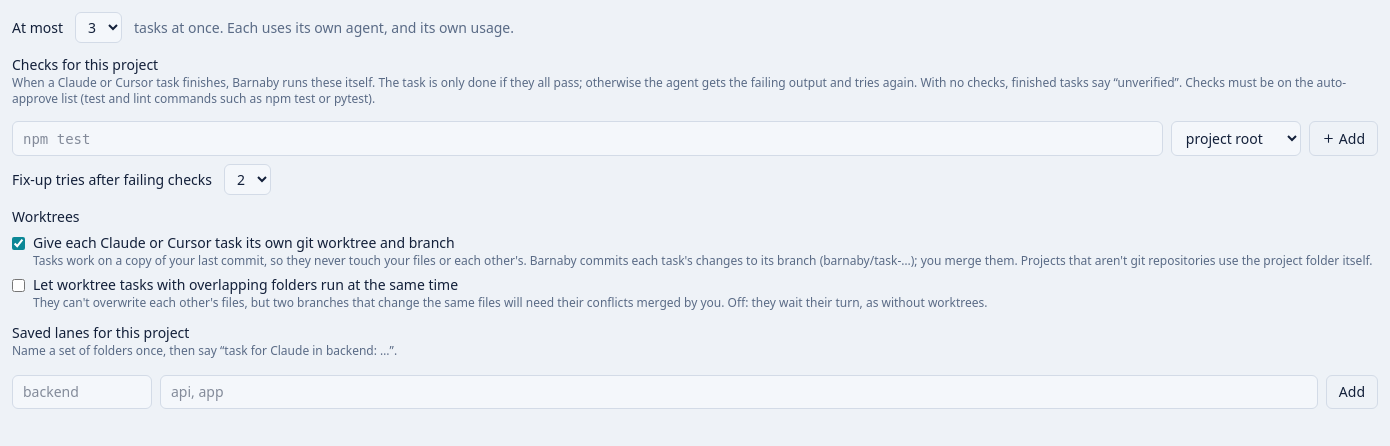
Scenario: TasksSettings › refuses paths that leave the project
Type "x" into the field named "Lane name" at (82, 392), box top-left (12, 375), bottom-right (152, 409)
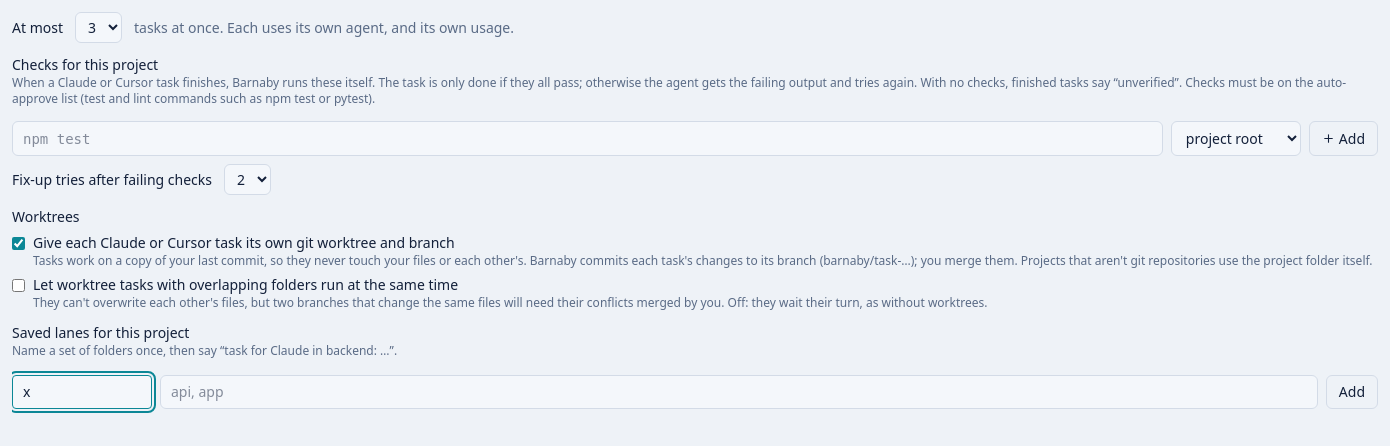
Type "../secrets" into the field named "Lane folders" at (739, 392), box top-left (160, 375), bottom-right (1318, 409)
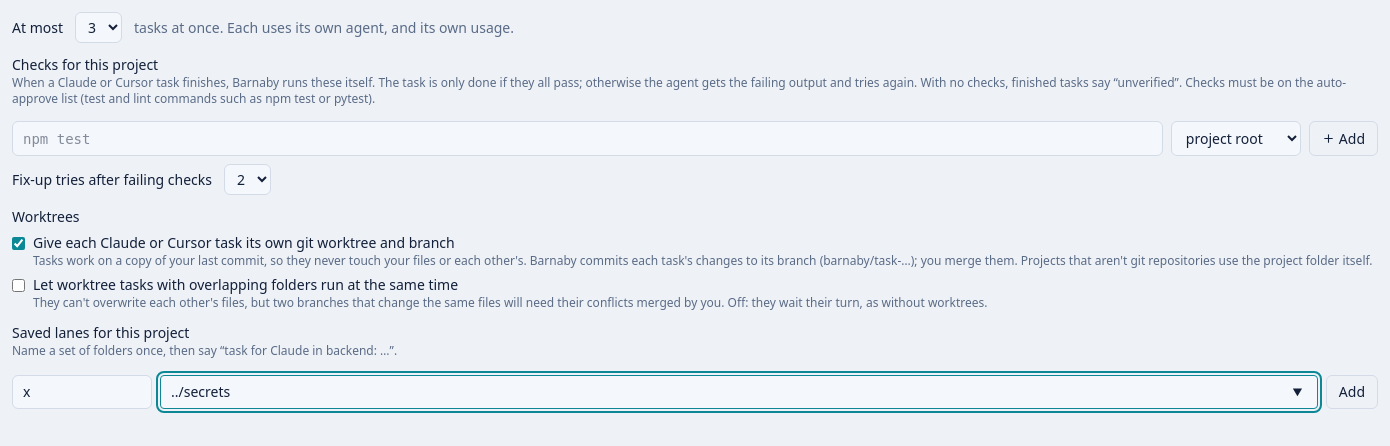
Click the 2nd button "Add" at (1352, 392), box top-left (1326, 375), bottom-right (1378, 409)
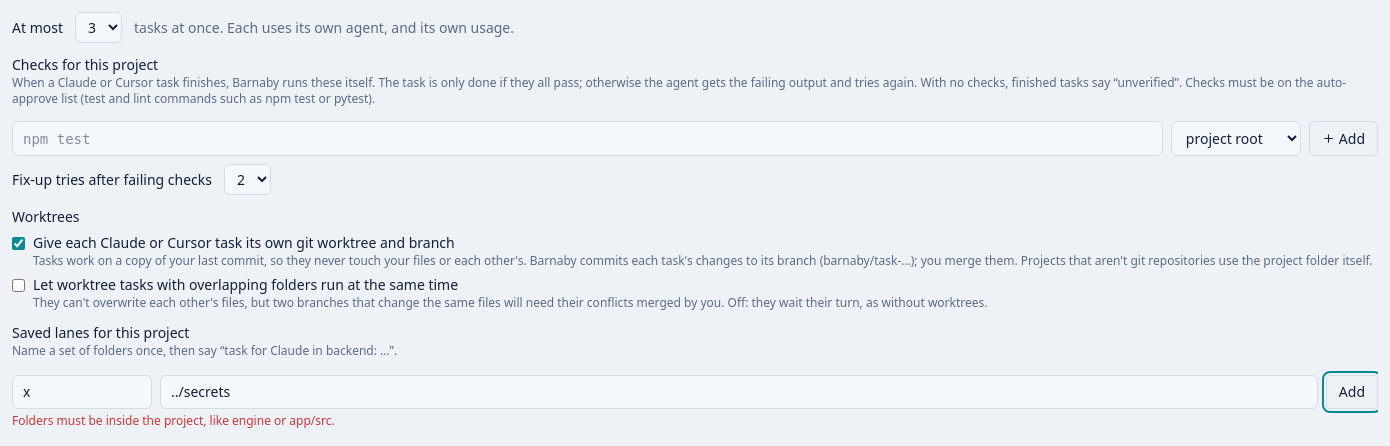
Expected: the text "Folders must be inside the project, like engine or app/src." is shown, top-left (12, 412), bottom-right (335, 429)
